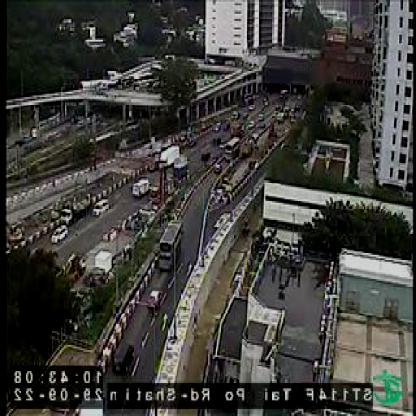Bus: (156, 219, 186, 272), (226, 135, 245, 160)
Car: (113, 343, 138, 378), (157, 142, 182, 173), (132, 176, 154, 198), (92, 196, 110, 218), (146, 288, 164, 308), (51, 224, 69, 244), (212, 122, 222, 134), (216, 162, 223, 174)
Truck: (62, 196, 91, 225)
